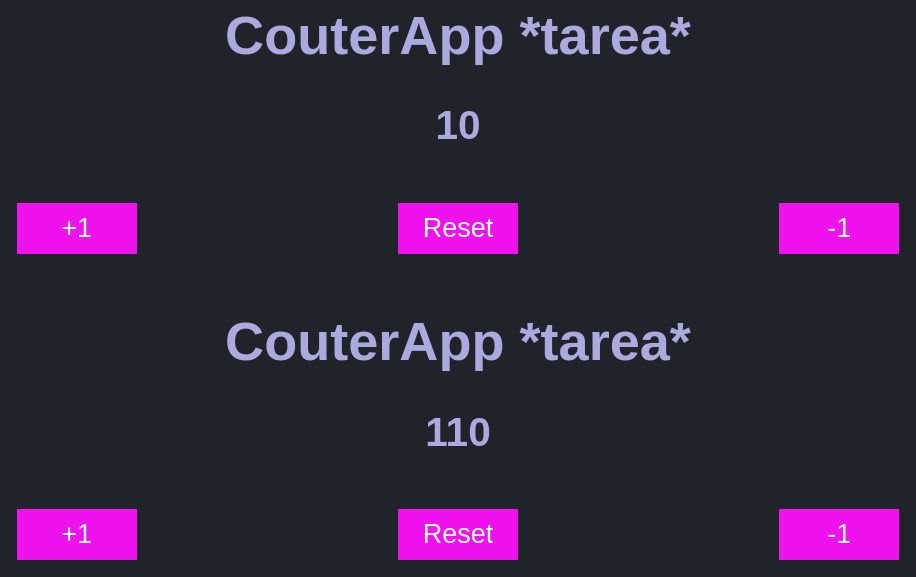
Scenario: Probando la correcta funcionalidad de CouterApp.js › Retorna los valores que se le mandan en el props  con el boton reset
Click the 2nd button "+1": (77, 535) [17,509,137,560]
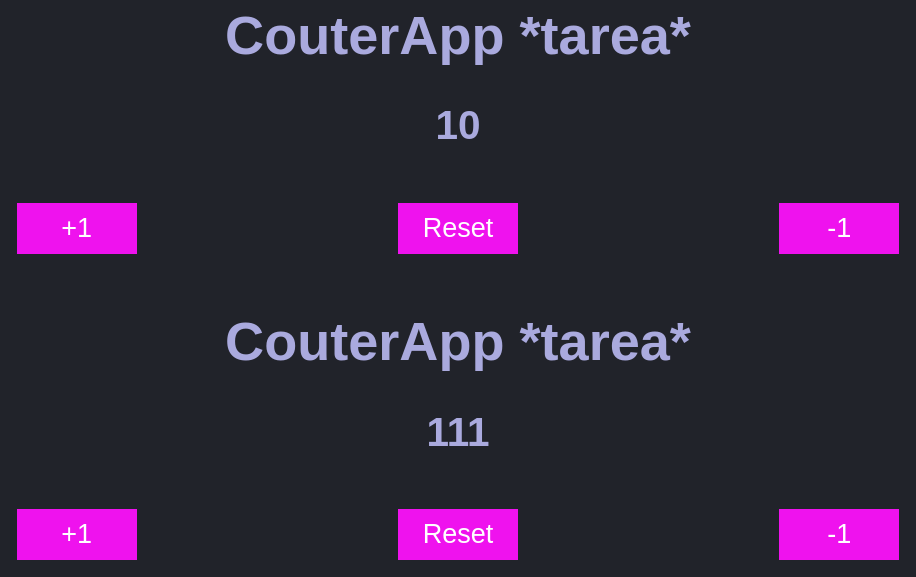
Click the 2nd button "+1": (77, 535) [17,509,137,560]
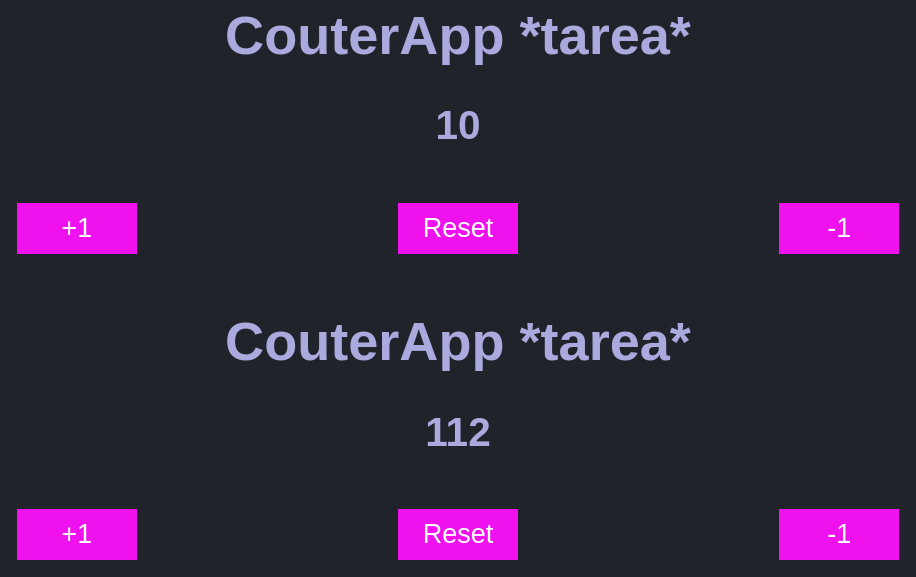
Click the button "Reset" below "112": (458, 535) [398,509,518,560]
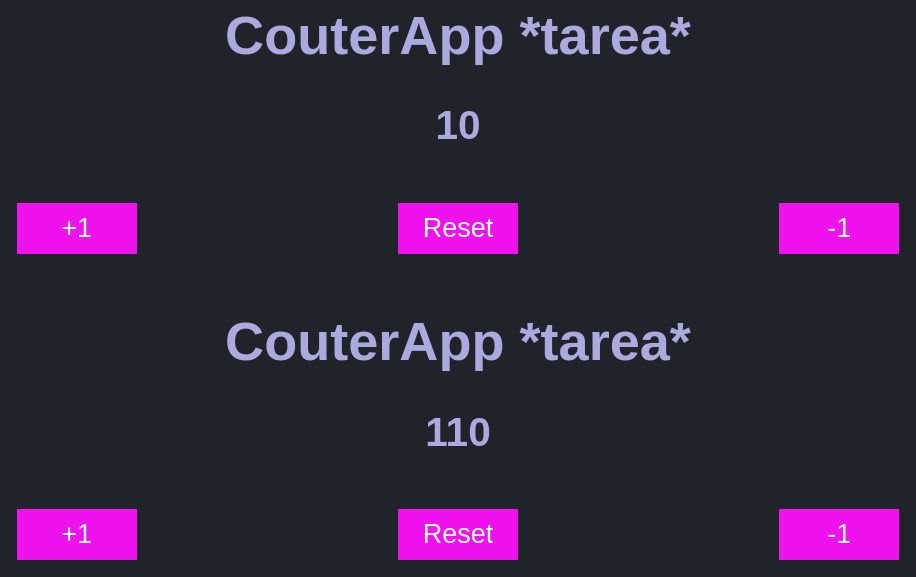
Now the heading "110" is shown, box [425,408,491,454]
